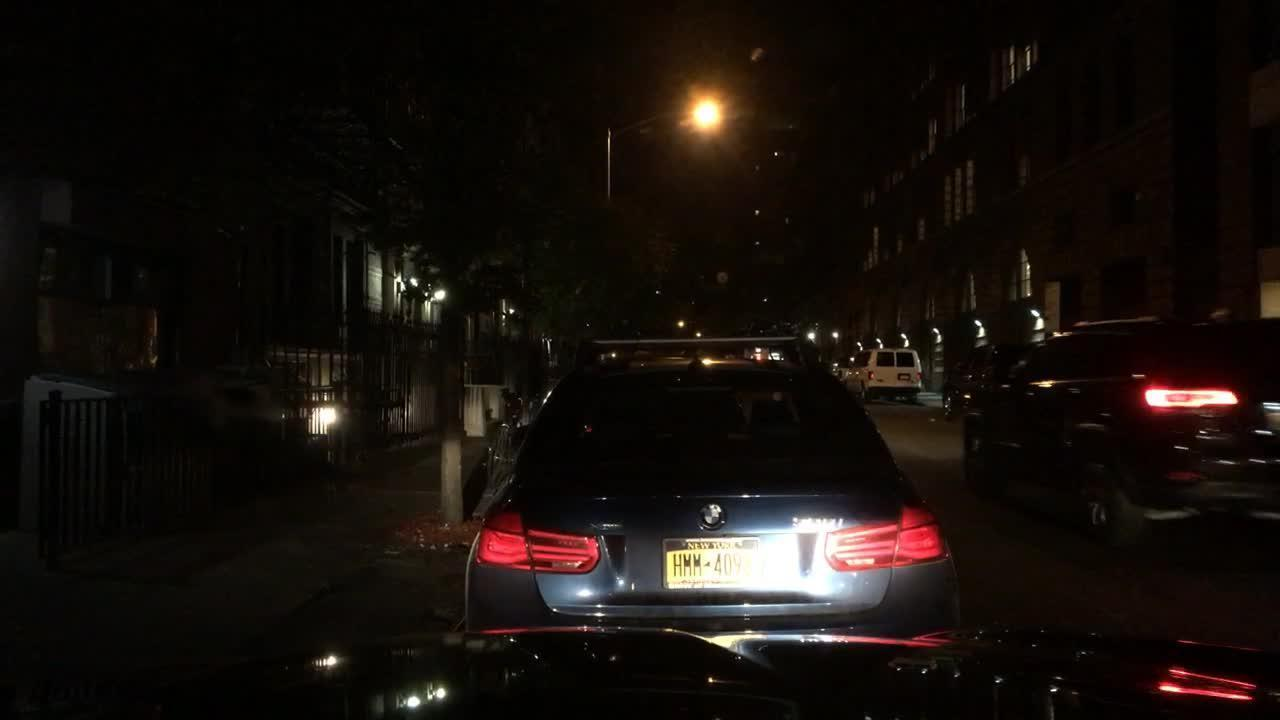bmw: (693, 497, 733, 536)
